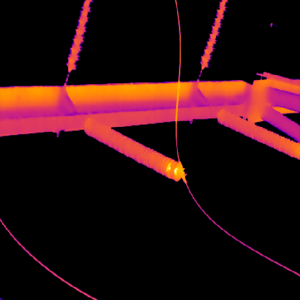insulator: (82, 115, 183, 183), (217, 106, 300, 156), (200, 0, 225, 67), (66, 0, 89, 68)
